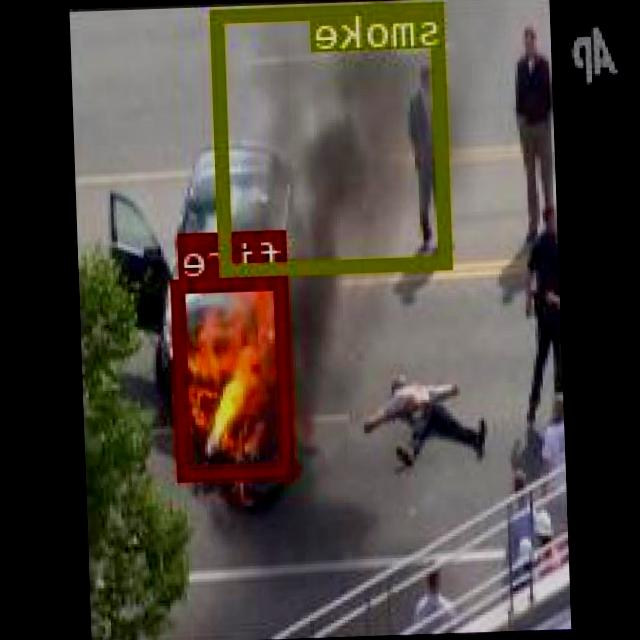fire: (173, 274, 296, 477)
smoke: (214, 0, 452, 274)
